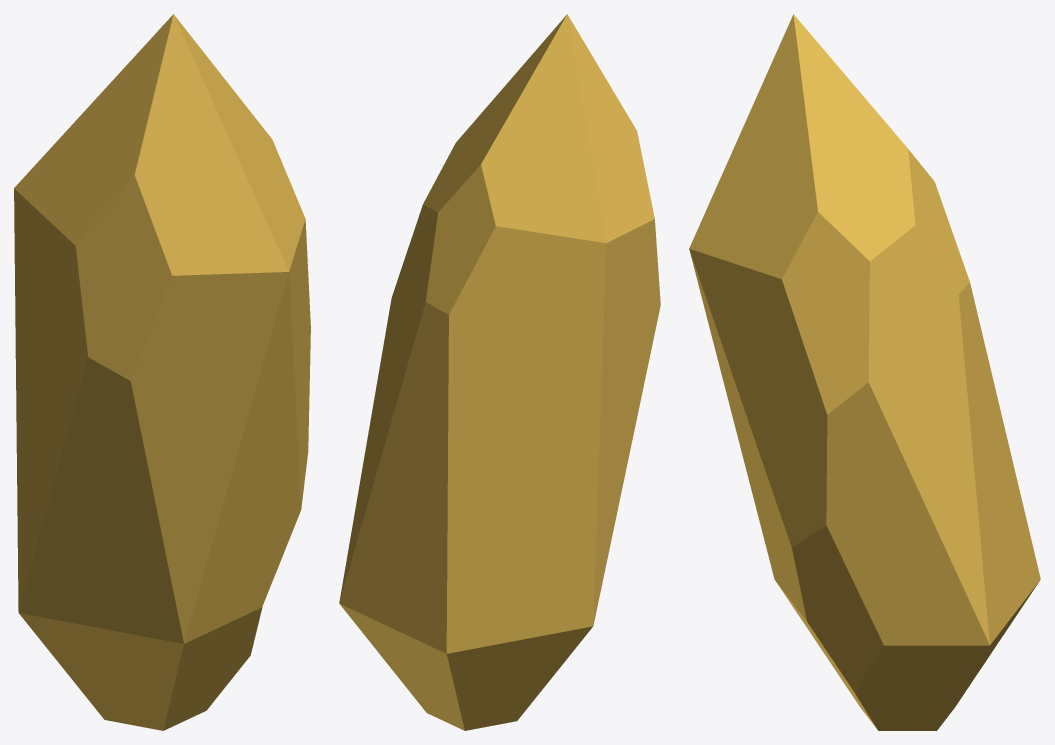
File: кристалл 4.fbx
The picture shows the model from 3 angles, left to right: view 1: azimuth 30°, elevation 25°; view 2: azimuth 150°, elevation 25°; view 3: azimuth 270°, elevation 25°; orthographic projection. The views are drawn at different scales.
Visible parts, largest first — view 1: Icosphere; view 2: Icosphere; view 3: Icosphere.
Part boxes in pixels (bbox=[...]): Icosphere: bbox=[14, 14, 310, 730]; Icosphere: bbox=[339, 14, 660, 730]; Icosphere: bbox=[689, 14, 1040, 730].
Size of the model in its own units: 302 by 836 by 391.
